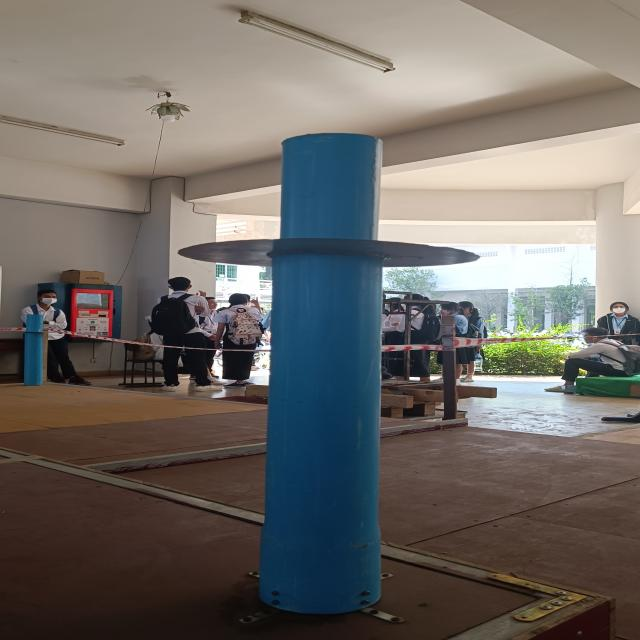pole: (184, 131, 462, 381)
